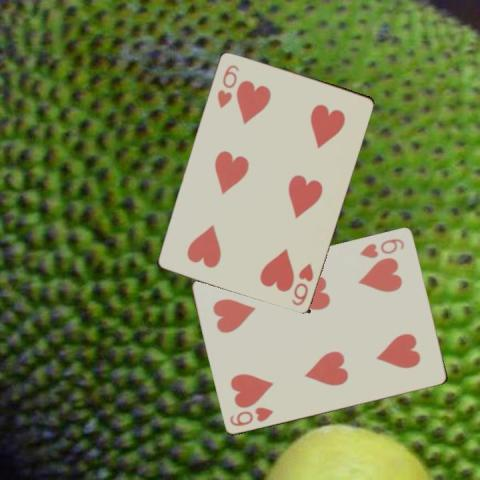6h: (214, 61, 241, 110), (288, 259, 315, 307), (357, 236, 406, 260), (227, 404, 275, 428)
